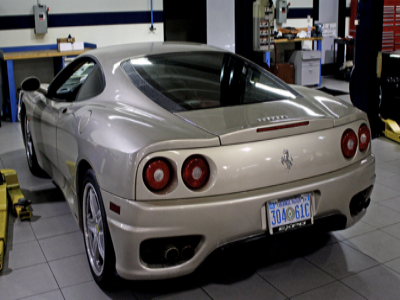licence: (269, 202, 317, 224)
